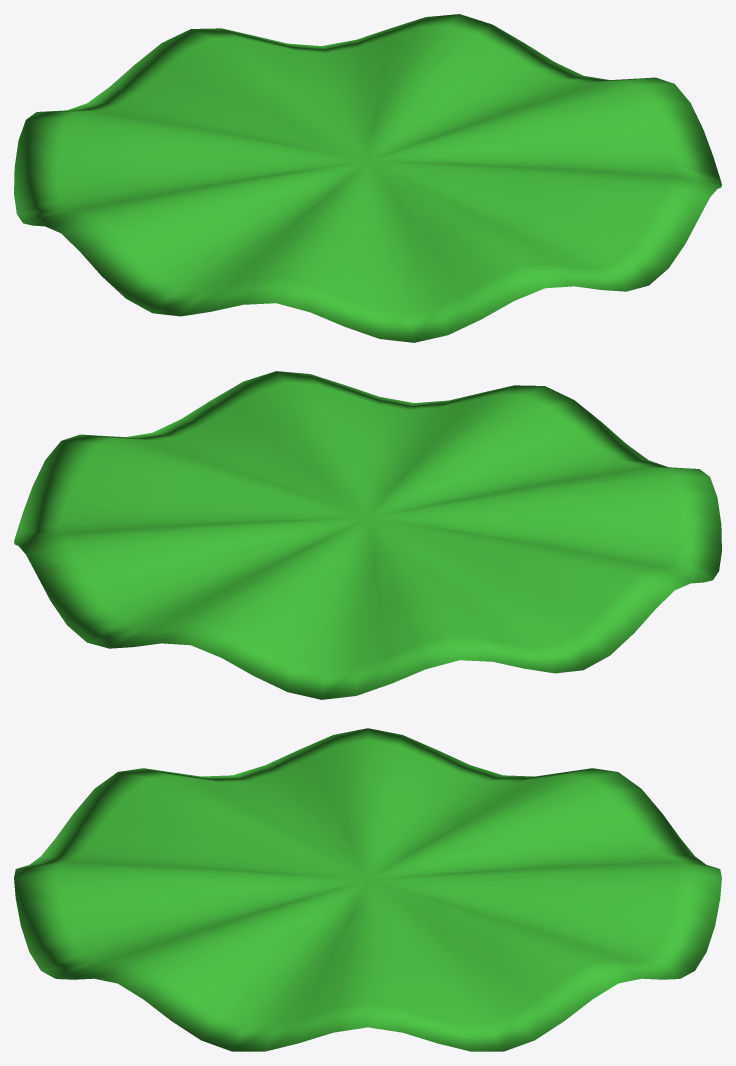
Rendered from FeuilleSalad.fbx.
The picture shows the model from 3 angles, top to bottom: view 1: azimuth 30°, elevation 25°; view 2: azimuth 150°, elevation 25°; view 3: azimuth 270°, elevation 25°; orthographic projection.
Parts seen in each view (by area): view 1: Circle; view 2: Circle; view 3: Circle.
Boxes of the visible parts, box(x1,y1,x2,y2) form: Circle: box(14, 14, 721, 342); Circle: box(14, 371, 721, 699); Circle: box(14, 728, 721, 1051).
Size of the model in its own units: 190 by 14.35 by 190.
